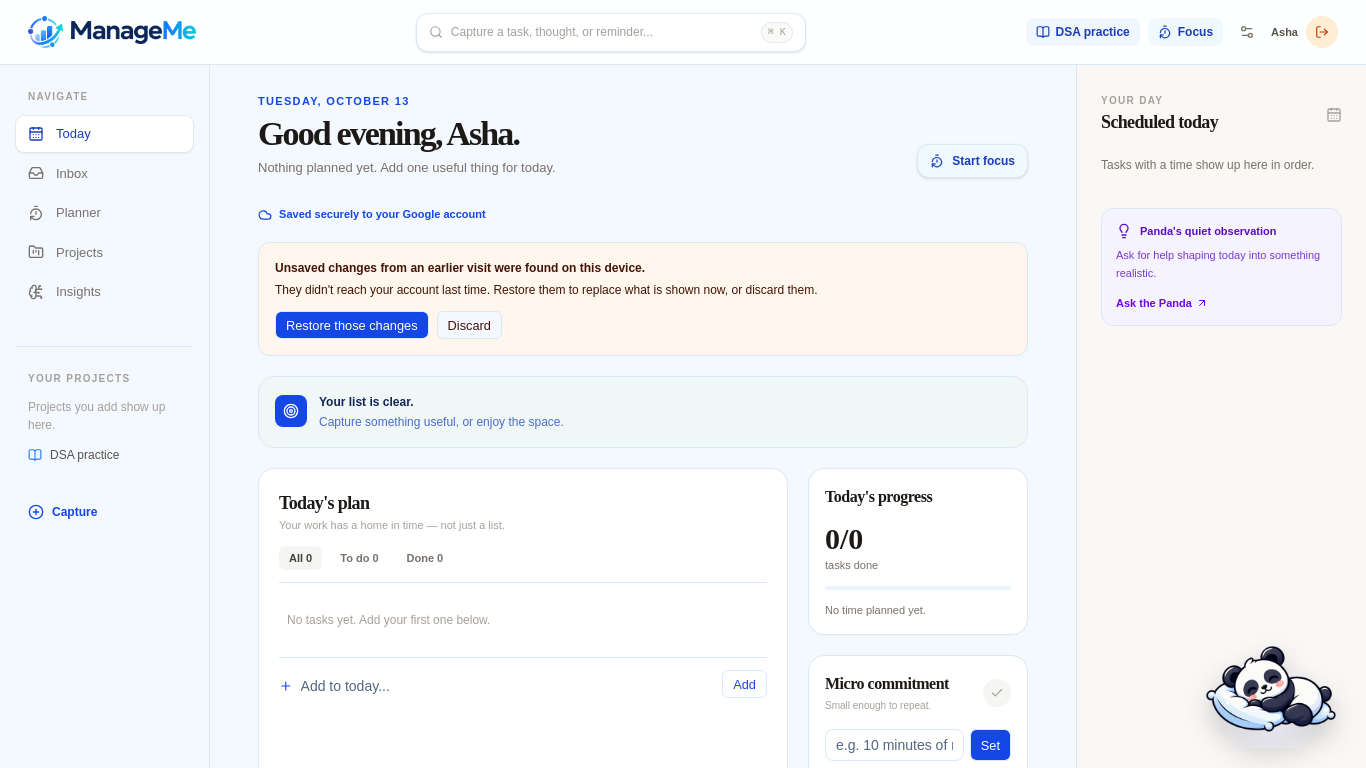
Test: workspace › offers back changes that failed to save last time instead of silently dropping them
Expected: the text "Unsaved changes from an earlier visit" is shown, [275,261,645,275]
Click the button "Restore those changes" at x=352, y=325, box [275,311,429,339]
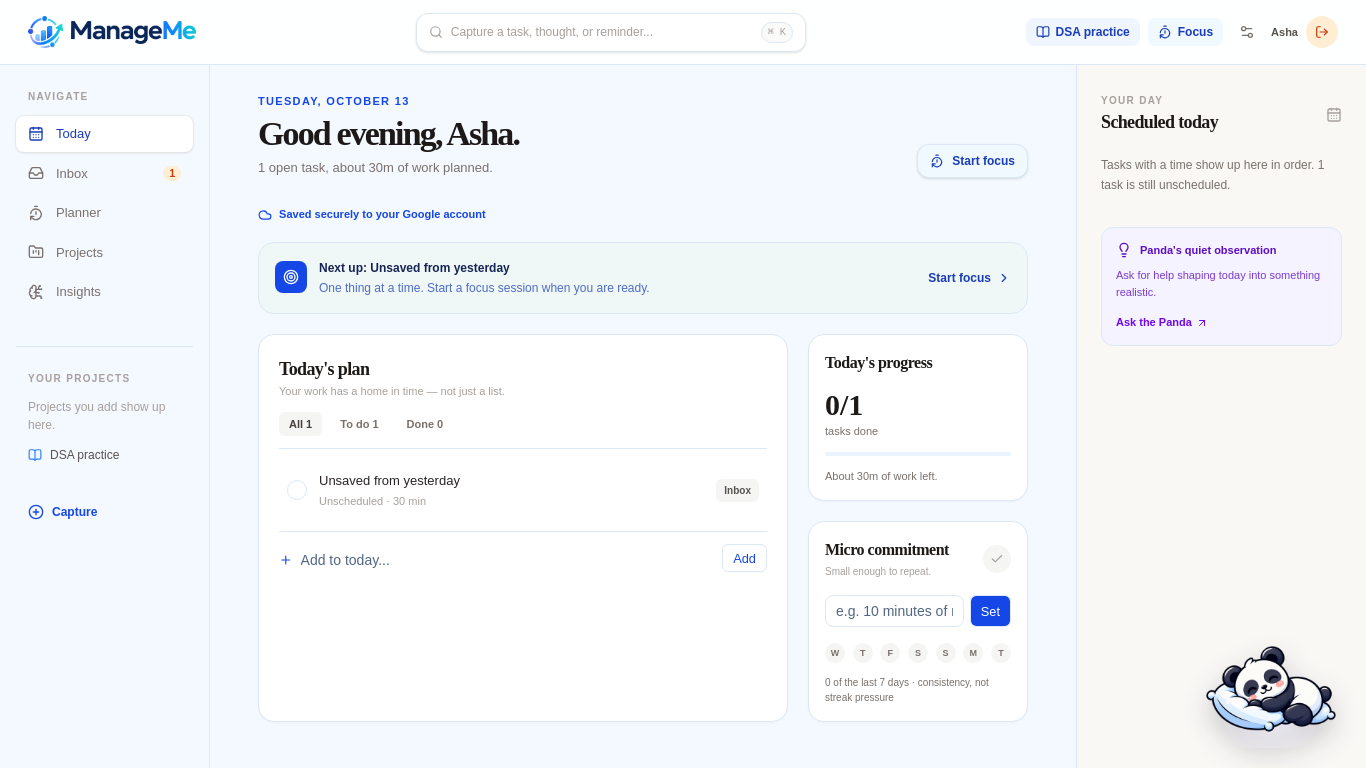
Expected: the text "Unsaved from yesterday" is shown, [319,473,460,488]
